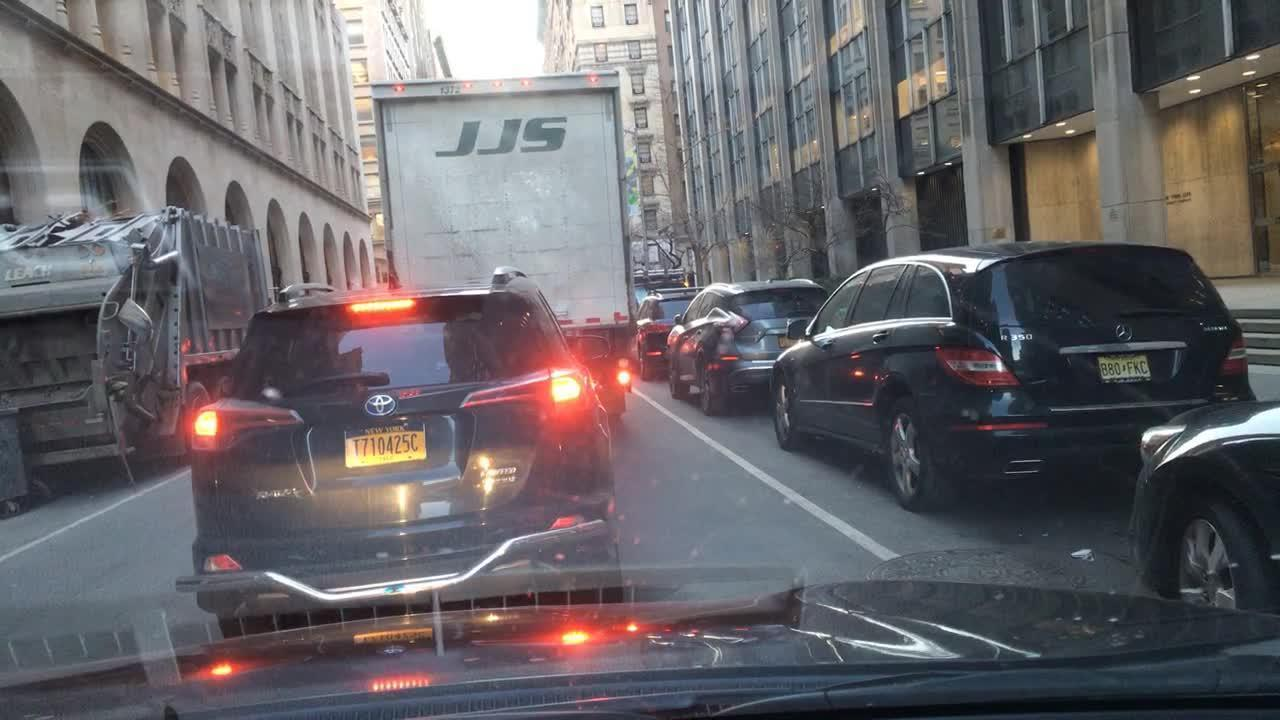Mercedes: (1111, 319, 1140, 345)
Toyota: (367, 385, 395, 423)
